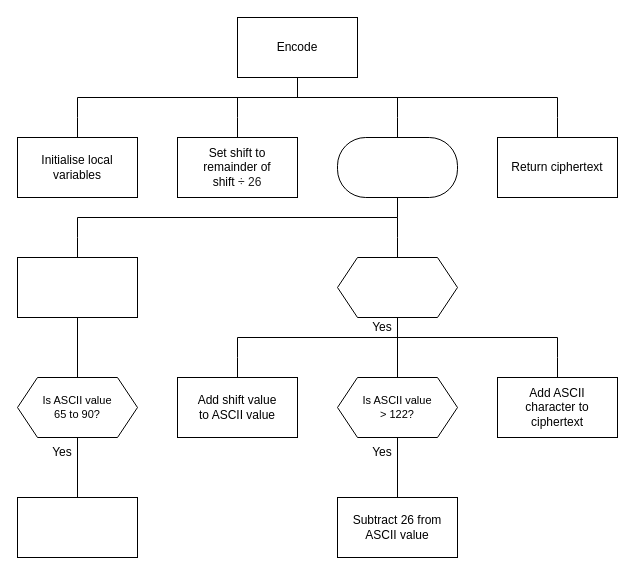
This 635x575 diagram has some shape labels left out. The shapes that lost their labels are listed below. From the top down, each one's centre as x and y in pixels, then its label:
the point at 397,167: Loop for each letter in the plaintext
the point at 77,287: Get ASCII value
the point at 397,287: Is ASCII value 97 to 122?
the point at 77,527: Add 32 to ASCII value
